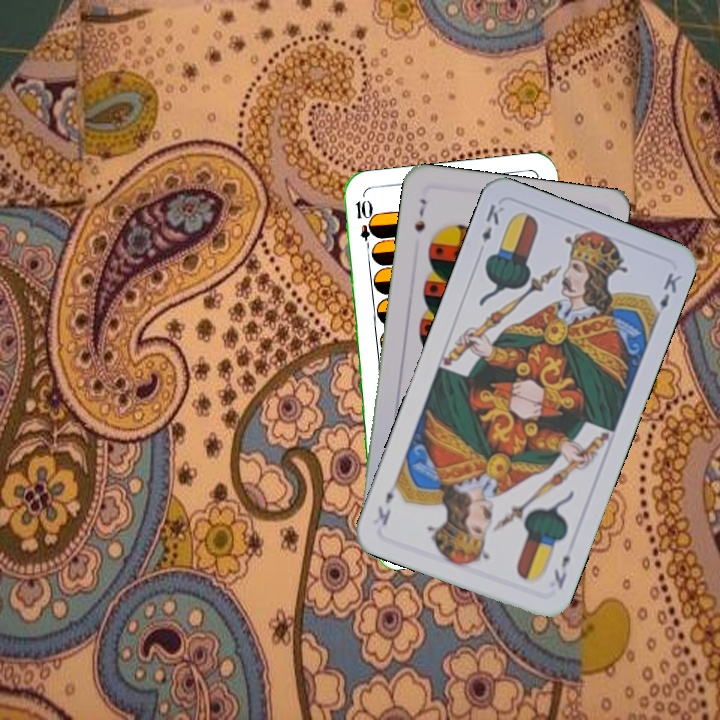E10: (352, 195, 375, 255)
EK: (478, 200, 507, 245), (550, 551, 573, 592)
S7: (410, 195, 429, 235)
